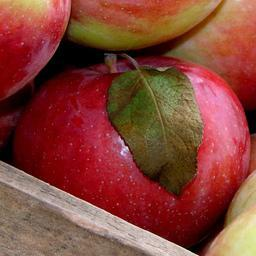apple: (14, 57, 248, 243)
